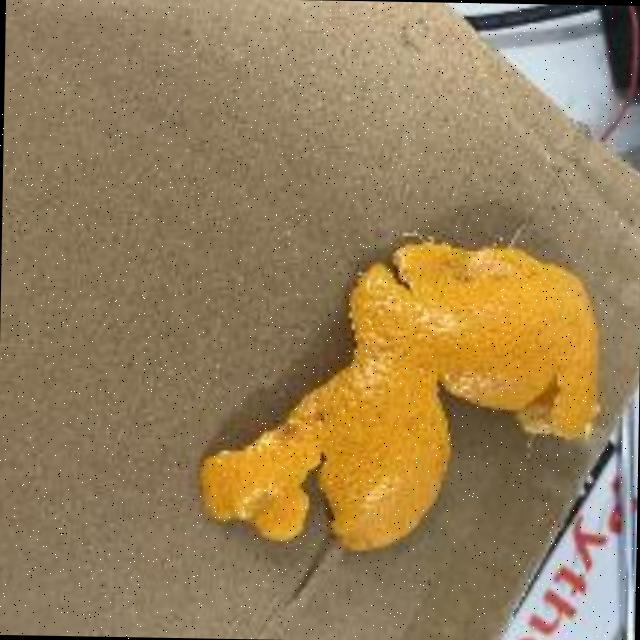orange-peel: (193, 228, 604, 558)
